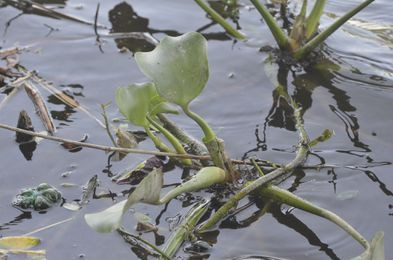water_hyacinth: (73, 29, 384, 256)
